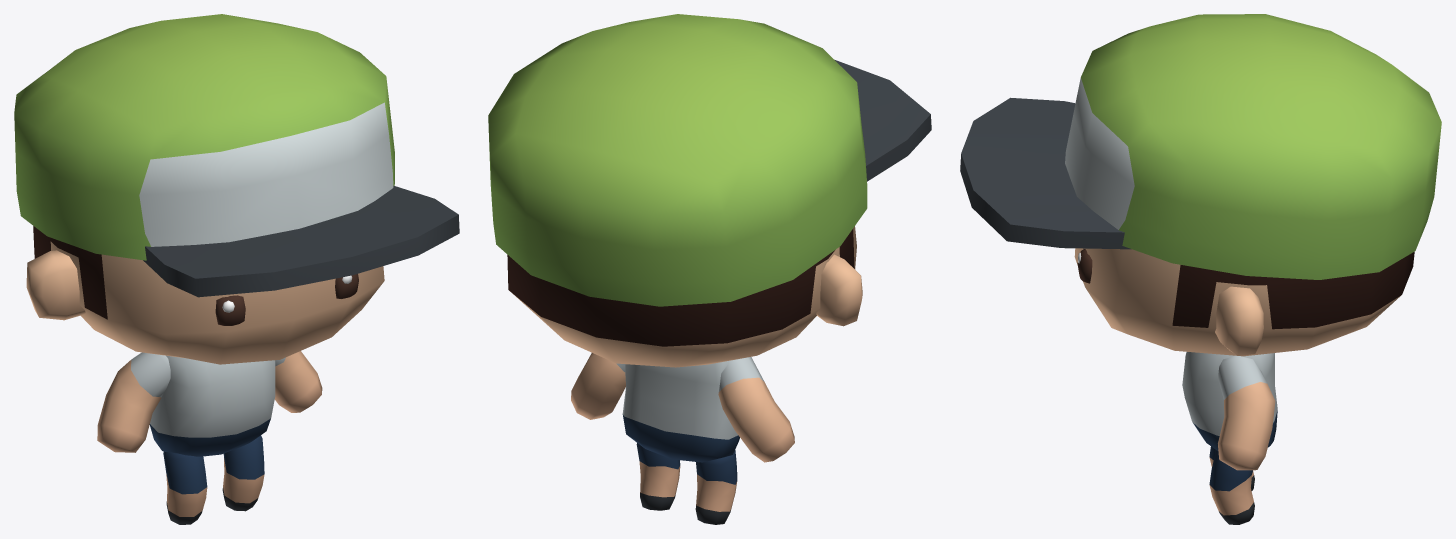
File: idle_0033.obj
3 views of the same model, side by side, from view 1: azimuth 30°, elevation 25°; view 2: azimuth 150°, elevation 25°; view 3: azimuth 270°, elevation 25° (orthographic).
Parts seen in each view (by area): view 1: Object_41, Object_42, Object_36, Object_44, Object_38; view 2: Object_41, Object_44, Object_36, Object_42; view 3: Object_41, Object_36, Object_42, Object_44.
Boxes of the visible parts, x1=… form: Object_41: x1=14, y1=14, x2=394, y2=260; Object_42: x1=139, y1=102, x2=459, y2=297; Object_36: x1=26, y1=226, x2=384, y2=364; Object_44: x1=97, y1=351, x2=322, y2=524; Object_38: x1=215, y1=274, x2=358, y2=325; Object_41: x1=488, y1=14, x2=867, y2=306; Object_44: x1=571, y1=353, x2=794, y2=524; Object_36: x1=507, y1=226, x2=862, y2=367; Object_42: x1=834, y1=59, x2=931, y2=181; Object_41: x1=1081, y1=14, x2=1441, y2=279; Object_36: x1=1074, y1=248, x2=1414, y2=356; Object_42: x1=960, y1=78, x2=1134, y2=249; Object_44: x1=1182, y1=352, x2=1277, y2=524.
Size of the model in its own units: 0.9691 by 1.22 by 1.14.
